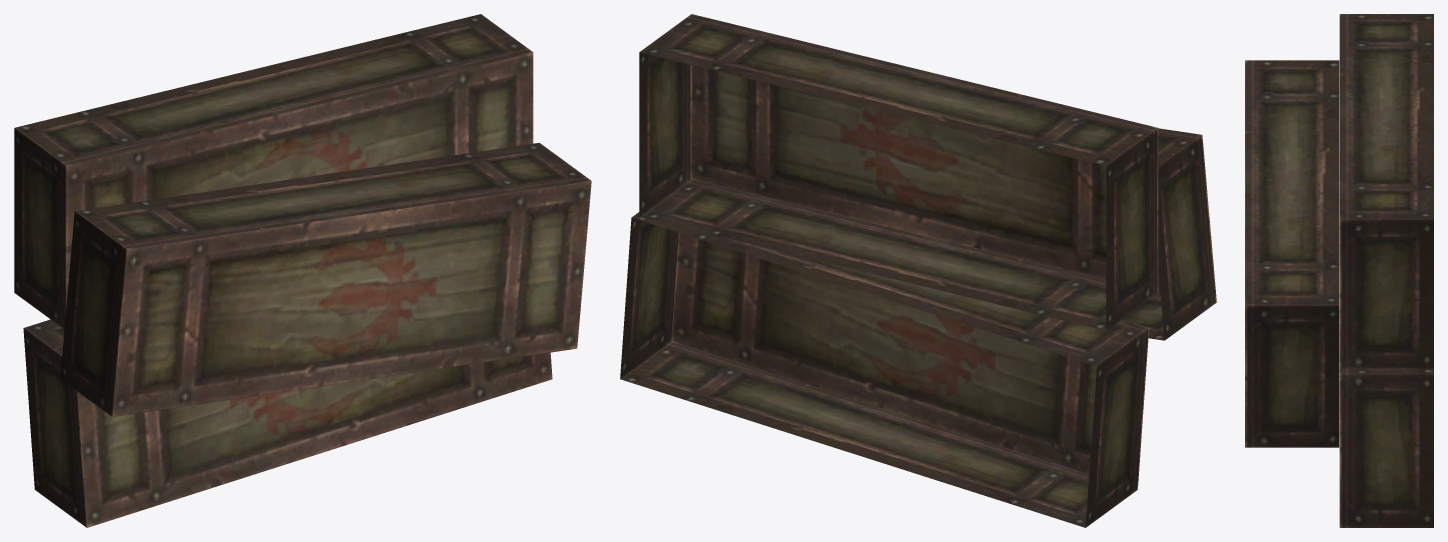
File: huodong_zhanchang_01_wuzi_02a_wuqixiang.obj
The picture shows the model from 3 angles, left to right: view 1: azimuth 30°, elevation 25°; view 2: azimuth 150°, elevation 25°; view 3: azimuth 270°, elevation 25°; orthographic projection. The views are drawn at different scales.
Parts seen in each view (by area): view 1: huodong_zhanchang_01_wuzi_02a_jian; view 2: huodong_zhanchang_01_wuzi_02a_jian; view 3: huodong_zhanchang_01_wuzi_02a_jian.
Boxes of the visible parts, left/top/right/bottom form: huodong_zhanchang_01_wuzi_02a_jian: left=14, top=14, right=591, bottom=527; huodong_zhanchang_01_wuzi_02a_jian: left=620, top=14, right=1216, bottom=527; huodong_zhanchang_01_wuzi_02a_jian: left=1245, top=14, right=1433, bottom=527.
Bounding box in the file's own units: 84.38 × 60.09 × 31.01.
Materials: 1 (1 with a texture image).
